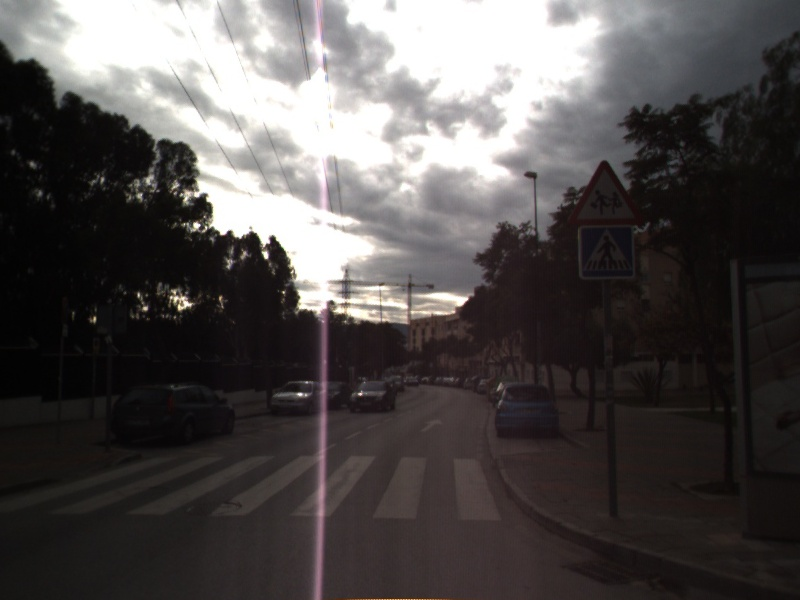STRAIGHT: (417, 417, 445, 434)
